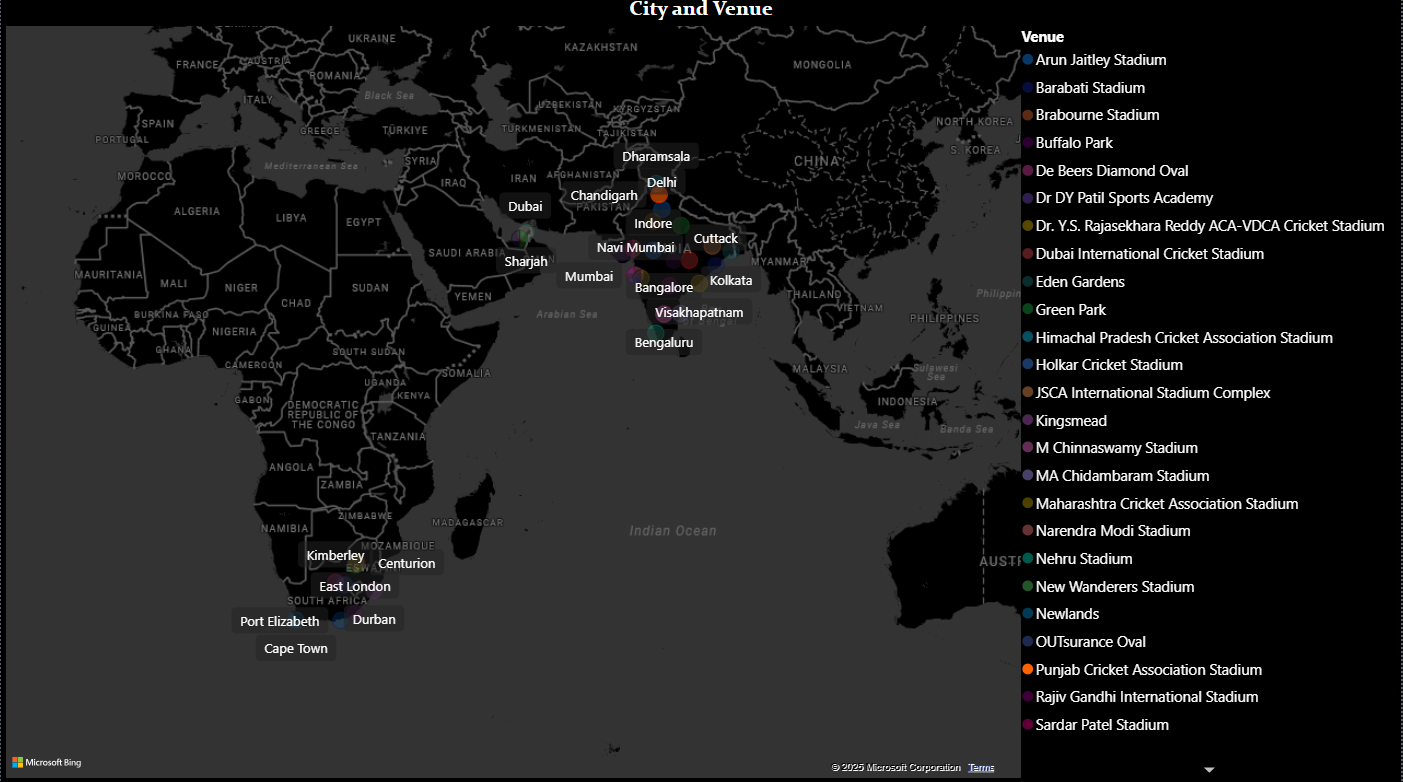

What the dashboard file says about the page in this screenshot:
{"tool":"powerbi","page":{"name":"MAP","canvas":[1280,720],"ordinal":3},"visuals":[{"type":"map","fields":{"Category":["IPL_Matches_final.City"],"Series":["IPL_Matches_final.Venue"]},"box":[0,0,1280,720.6],"z":1}]}

Visuals, with their boxes in screenshot pixels (x1, y1, x2, y2), scaled from the page's 1280x720 canvas onto the 1403x782 screenshot:
map - IPL_Matches_final.City x IPL_Matches_final.Venue: bbox=(0, 0, 1402, 781)
